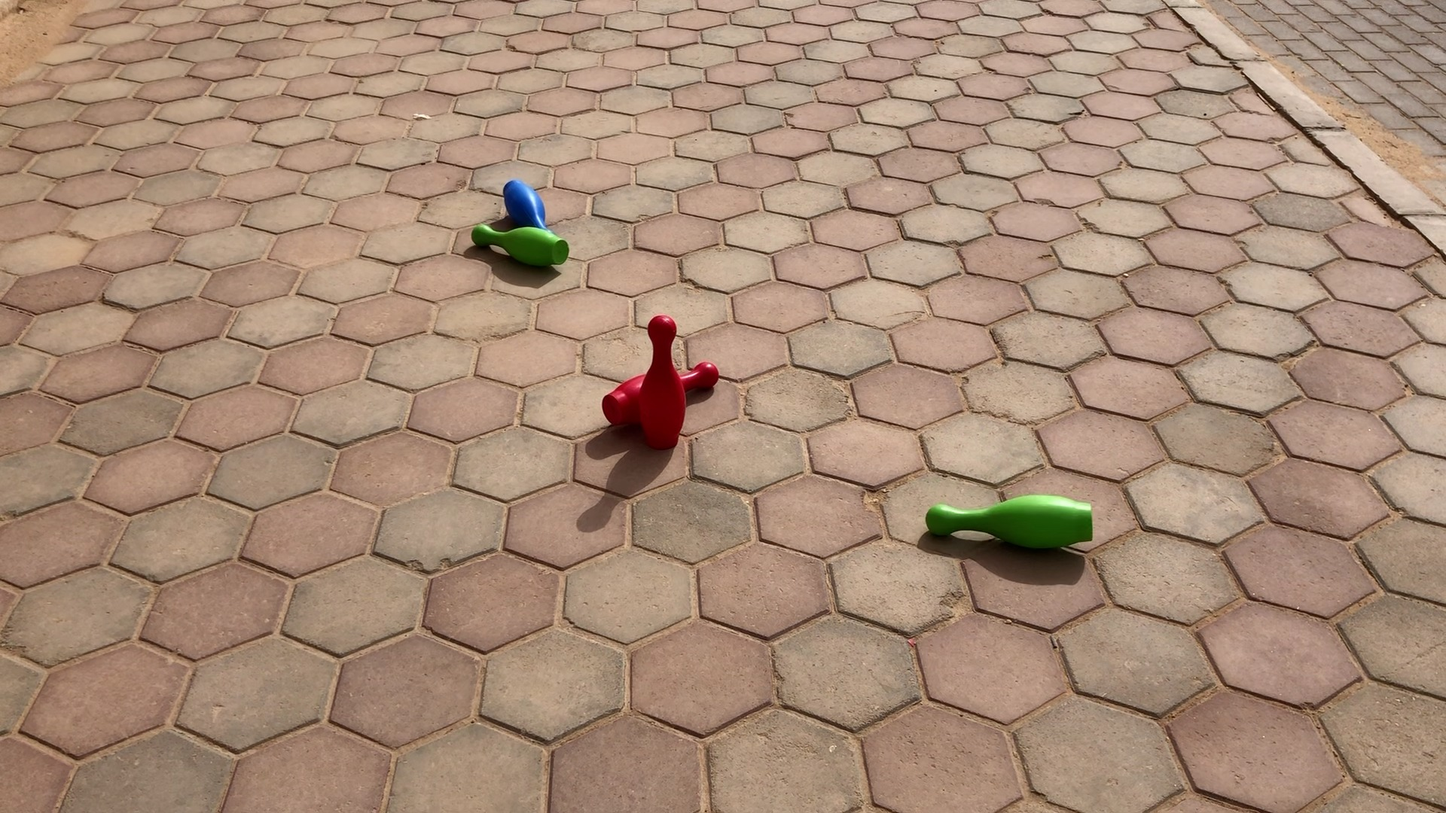pin: (926, 497, 1094, 552), (641, 315, 688, 446), (475, 224, 569, 269), (502, 180, 547, 231)
